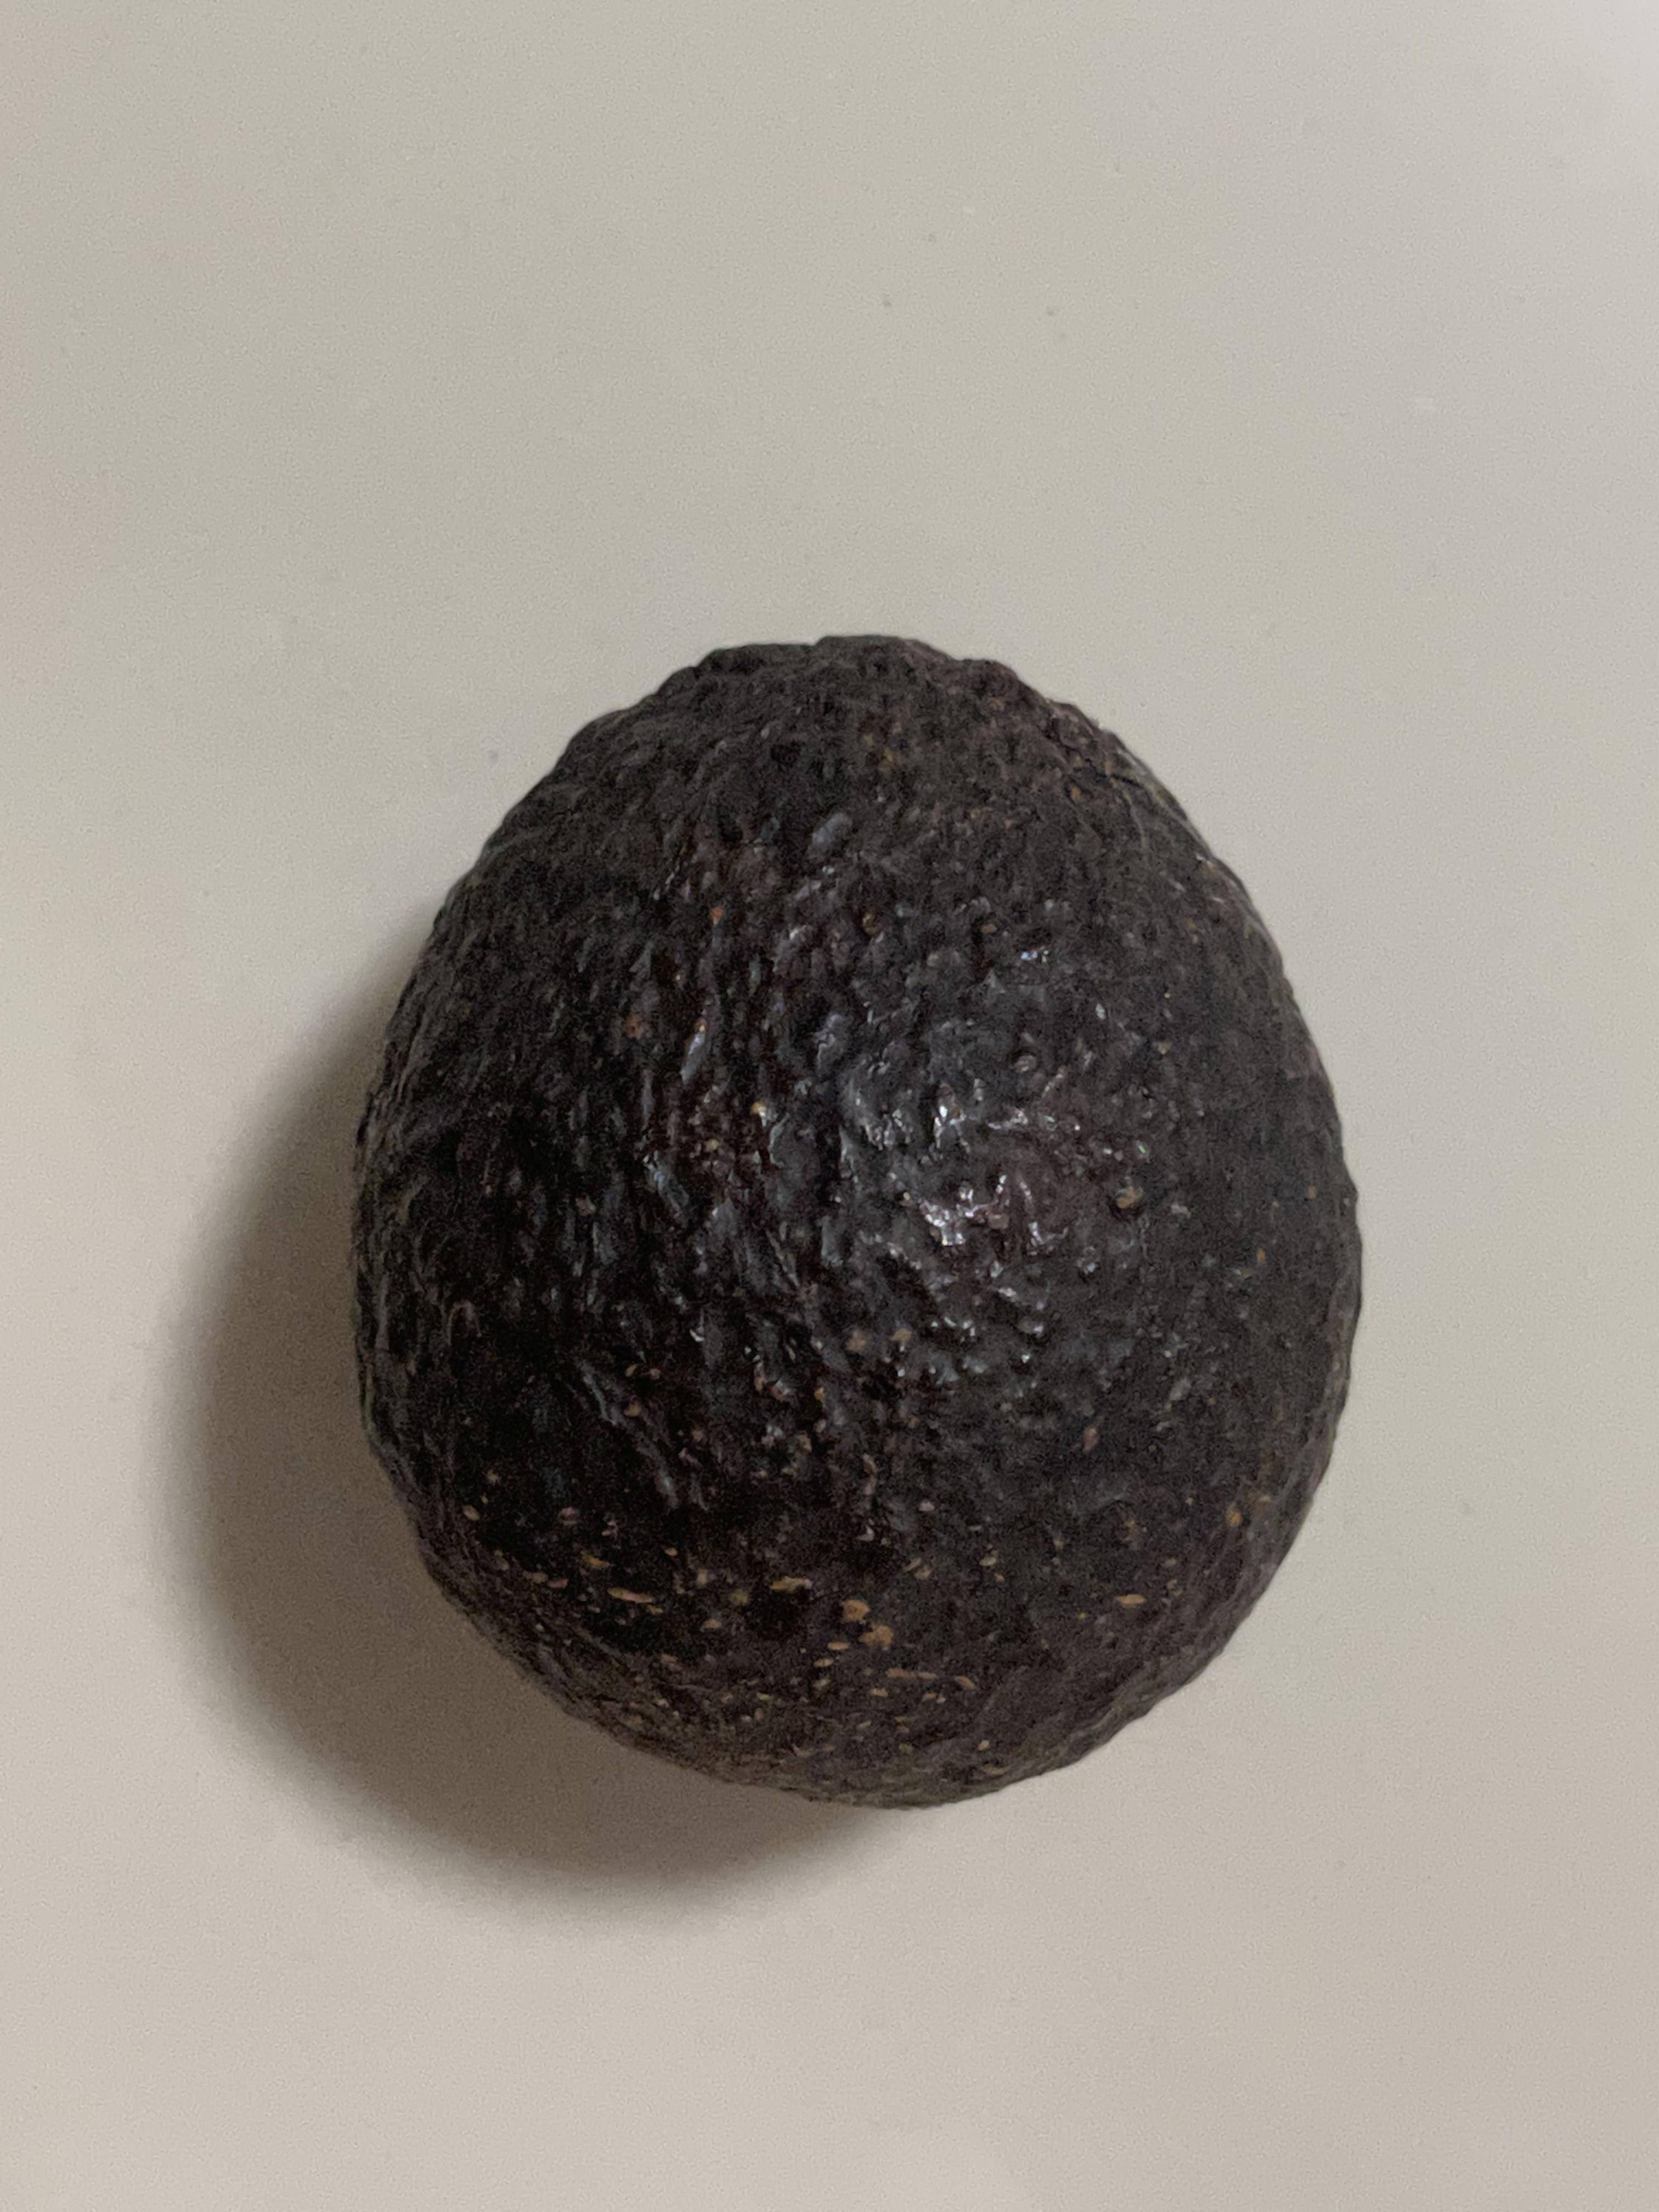Level3: (324, 603, 1384, 1831)
